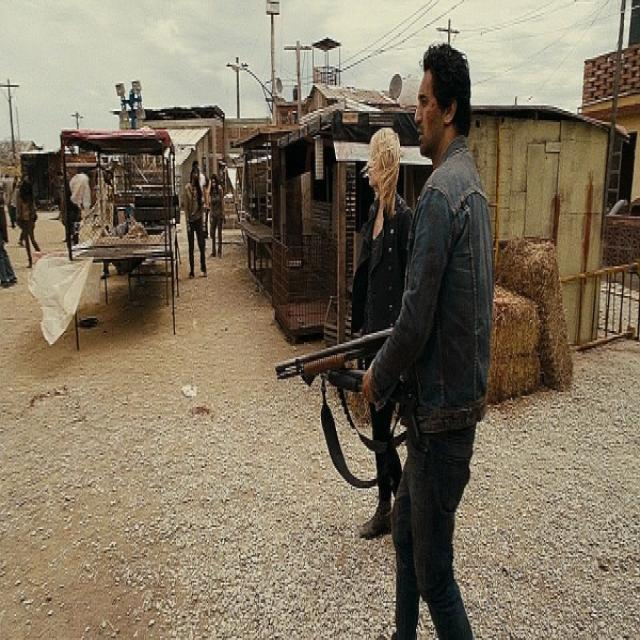rifle: (274, 324, 395, 395)
